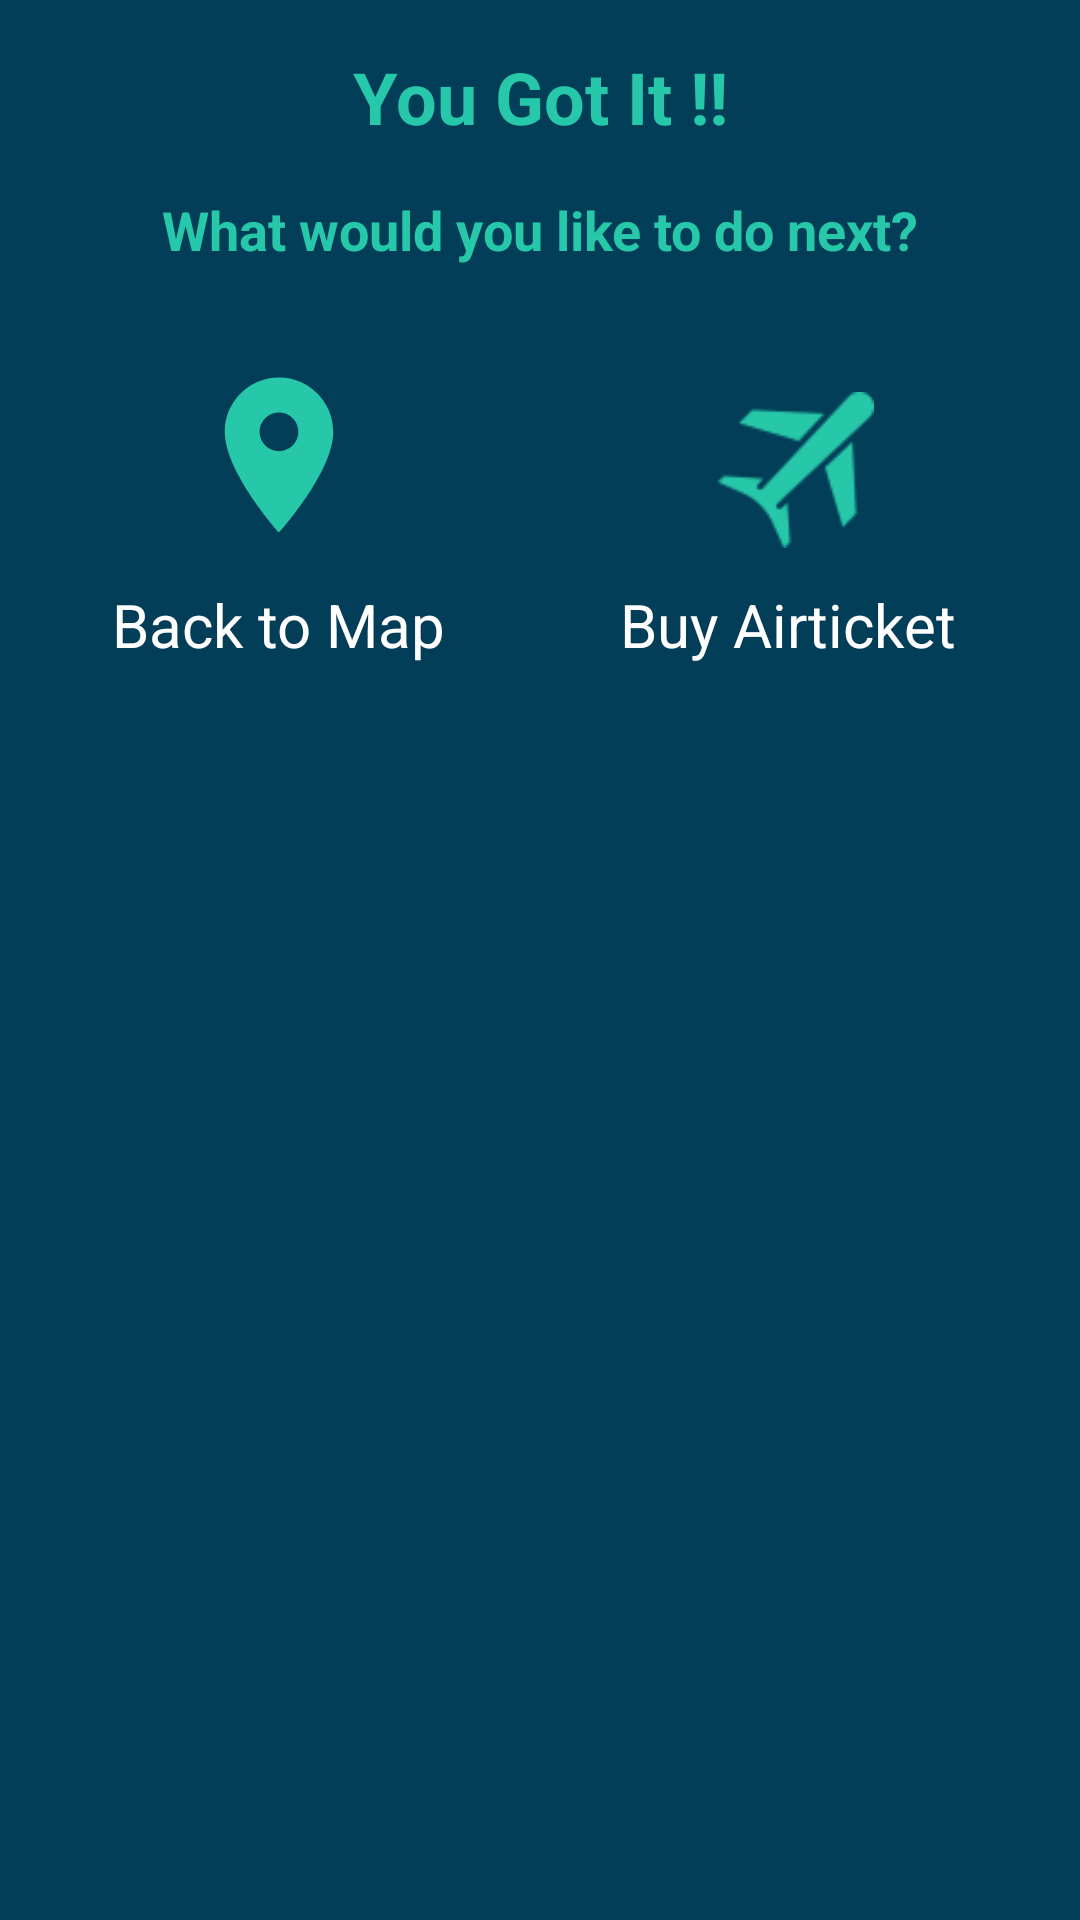

Screen size 1080×1920. Icon name, then its center in pixels as (x,y):
flight: (796,470)
marker: (279,455)
